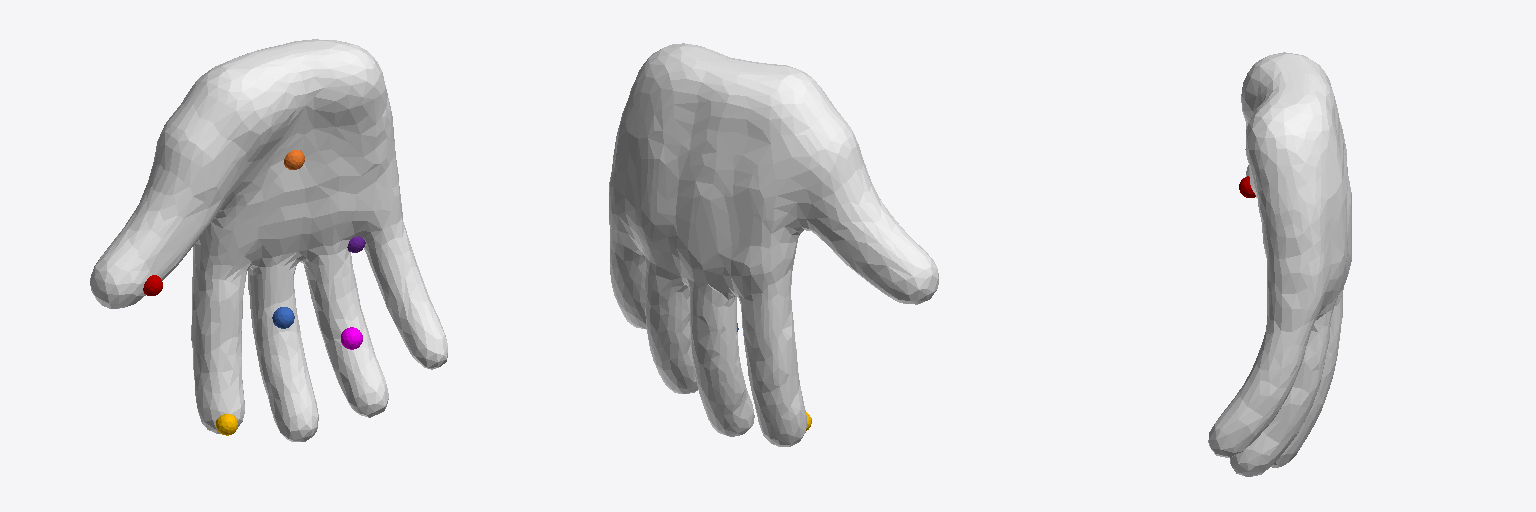
3 renders of one model, left to right at view 1: azimuth 30°, elevation 25°; view 2: azimuth 150°, elevation 25°; view 3: azimuth 270°, elevation 25°, orthographic.
Bounding box in the file's own units: 1.67 × 1.86 × 0.6348.
1 materials, 1 textured.